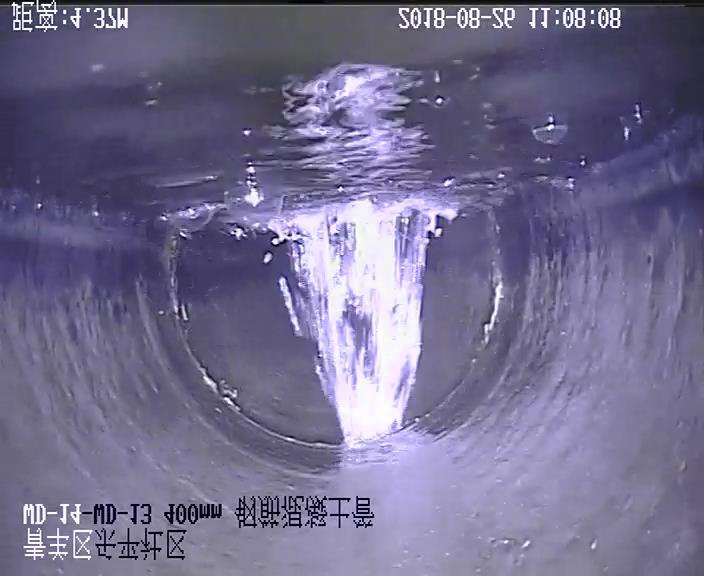SL: (281, 195, 457, 447)
